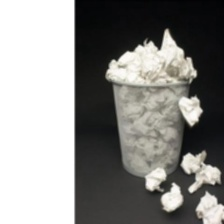tissue: (101, 24, 202, 87), (186, 157, 224, 195), (174, 91, 207, 130), (192, 186, 224, 224), (156, 178, 188, 214), (176, 146, 208, 176), (141, 164, 170, 195)
